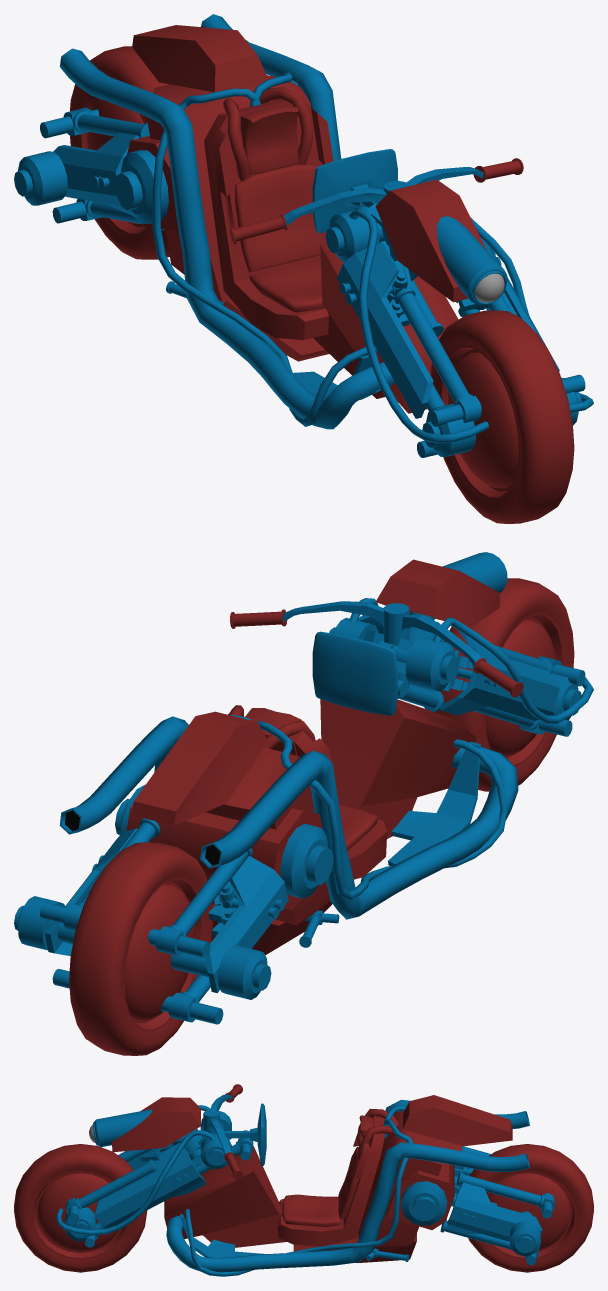
The model's file is cp_bike.FBX.
3 views of the same model, one above another, from view 1: azimuth 30°, elevation 25°; view 2: azimuth 150°, elevation 25°; view 3: azimuth 270°, elevation 25° (orthographic). The views are drawn at different scales.
Visible parts, largest first — view 1: Box001; view 2: Box001; view 3: Box001, Group001.
Part boxes in pixels (x1,y1,x2,y2): Box001: [14, 14, 593, 523]; Box001: [14, 552, 593, 1055]; Box001: [14, 1084, 593, 1276]; Group001: [366, 1248, 409, 1261].
Size of the model in its own units: 1.38 by 1.23 by 3.87.
